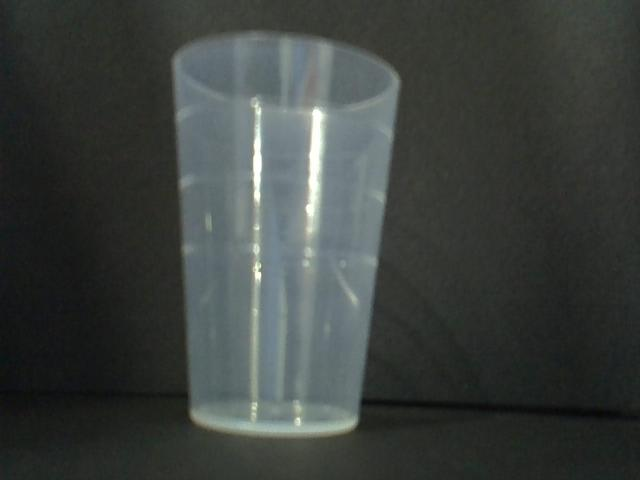cup: (168, 28, 402, 438)
